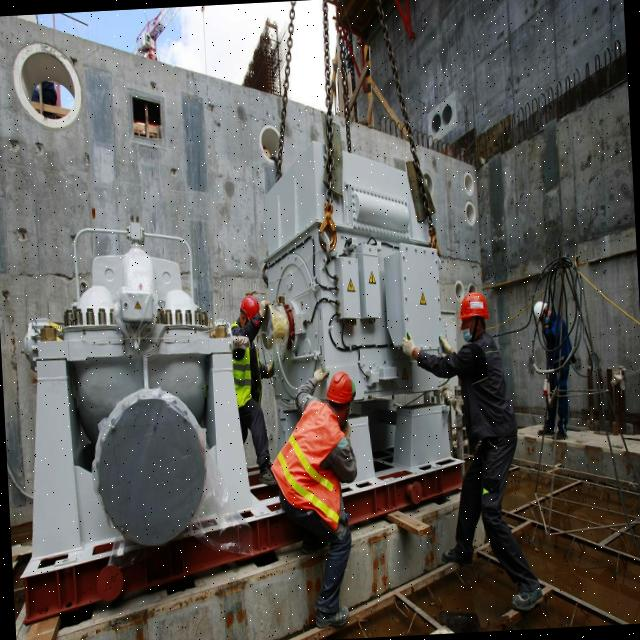Helmet: (457, 290, 492, 322), (327, 372, 358, 406), (238, 294, 261, 320), (532, 301, 549, 331)
Jacket: (276, 409, 351, 510), (232, 335, 266, 410)
NoJacket: (458, 328, 509, 446), (543, 318, 570, 376)
